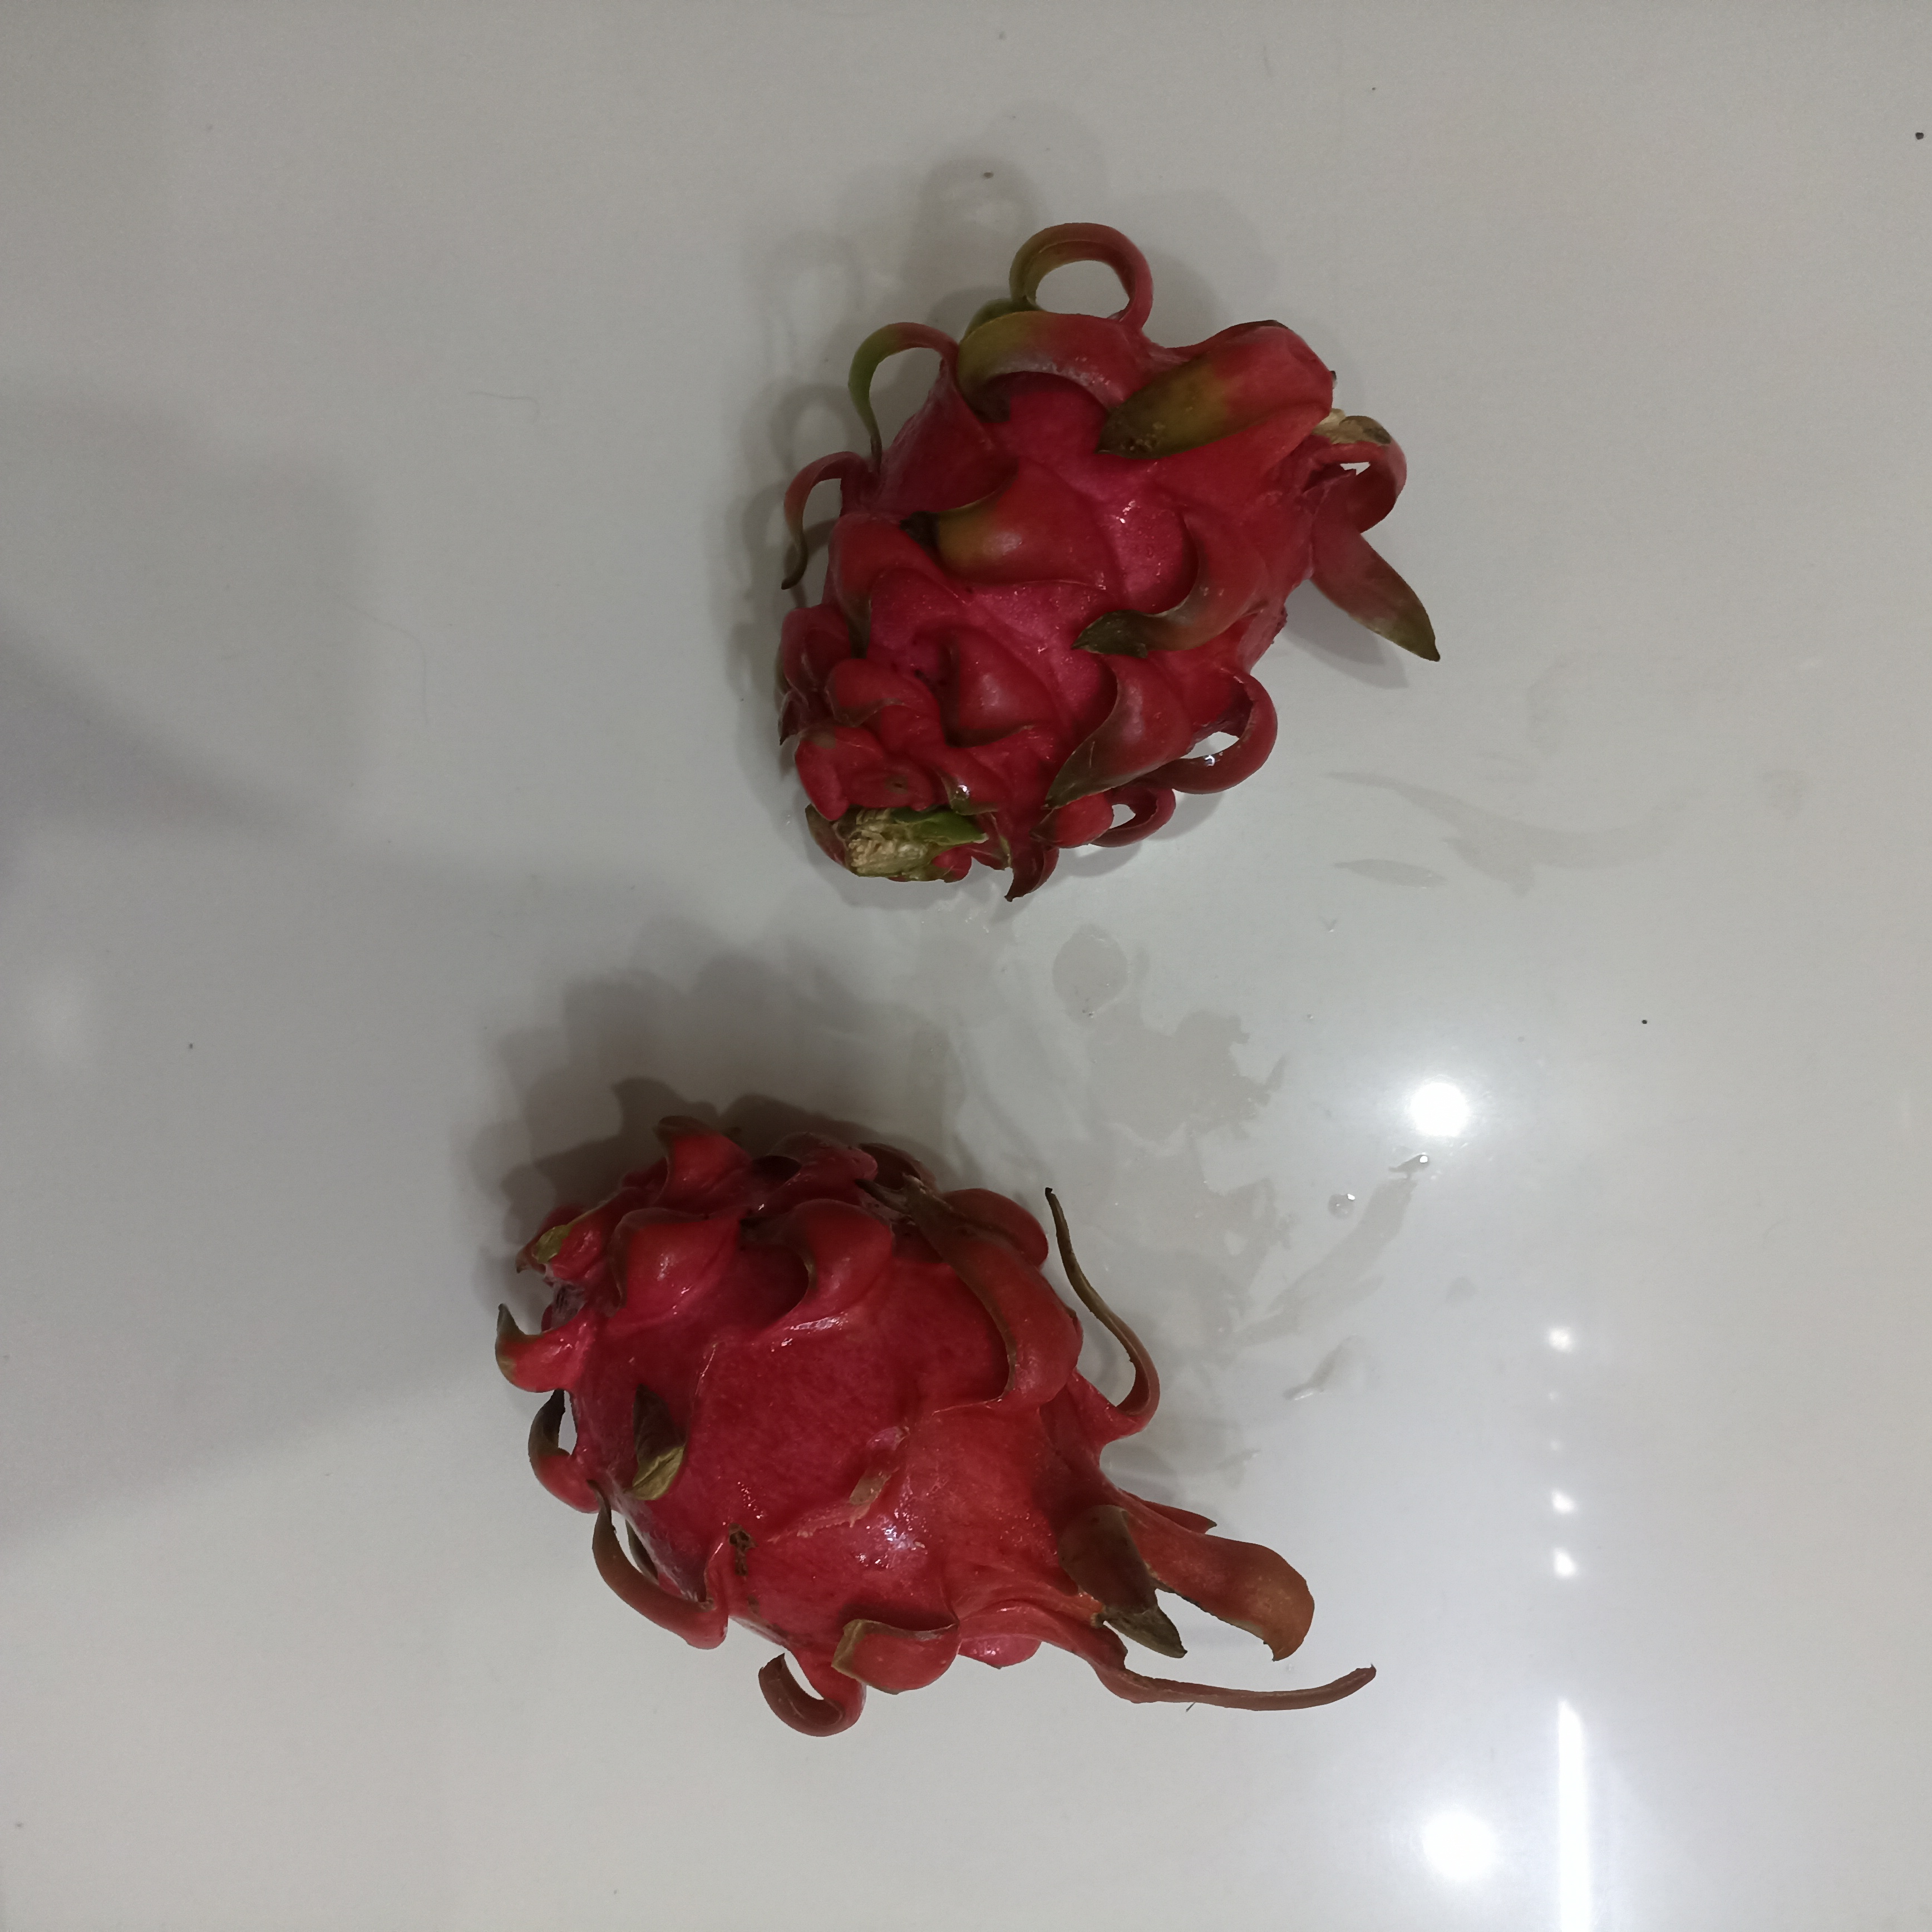Thanh long: (536, 1122, 1157, 1690), (784, 324, 1297, 885)
